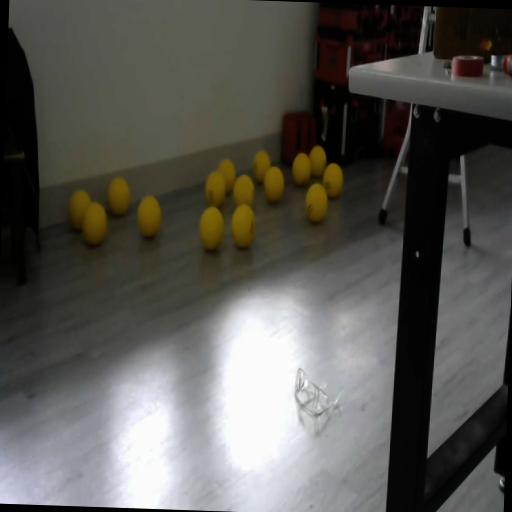FUEL: (197, 204, 225, 252), (80, 200, 108, 246), (134, 192, 162, 238), (229, 202, 256, 249), (304, 180, 328, 222), (106, 176, 130, 216), (320, 160, 343, 198), (232, 172, 256, 208), (290, 150, 312, 188), (250, 148, 272, 184), (216, 157, 237, 194), (308, 142, 328, 178)
